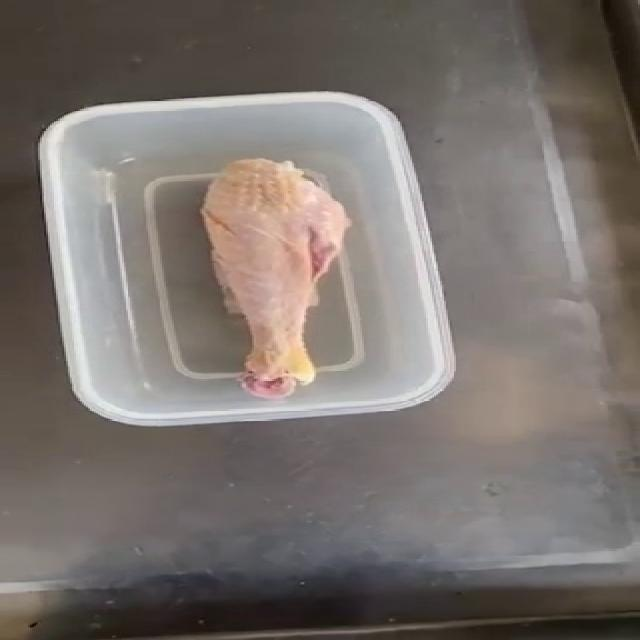chicken: (198, 156, 351, 400)
